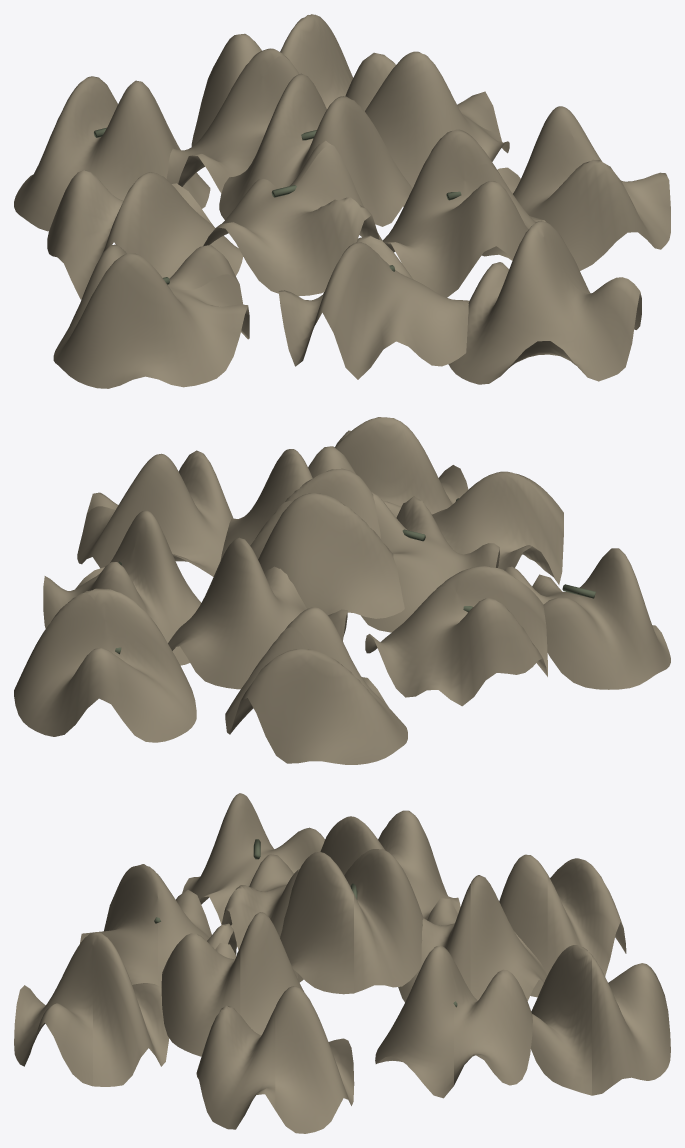
File: favites-mobile.glb
The picture shows the model from 3 angles, top to bottom: view 1: azimuth 30°, elevation 25°; view 2: azimuth 150°, elevation 25°; view 3: azimuth 270°, elevation 25°; orthographic projection. The views are drawn at different scales.
Parts seen in each view (by area): view 1: inflated-corallite, oral-mouth; view 2: inflated-corallite, oral-mouth; view 3: inflated-corallite.
Part boxes in pixels (left/top/right/bottom): inflated-corallite: left=14, top=14, right=670, bottom=388; oral-mouth: left=94, top=127, right=461, bottom=284; inflated-corallite: left=14, top=417, right=670, bottom=764; oral-mouth: left=115, top=498, right=595, bottom=654; inflated-corallite: left=14, top=793, right=670, bottom=1133.
Bounding box in the file's own units: 0.5517 × 0.1557 × 0.5729.
